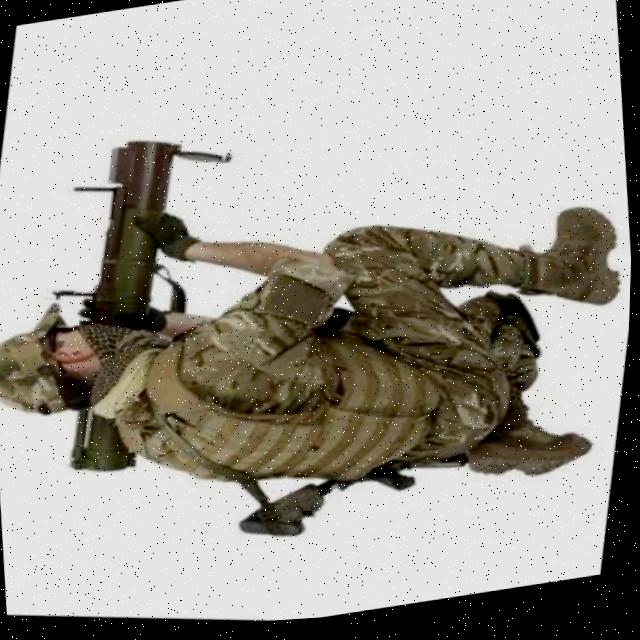rocket: (33, 122, 227, 490)
